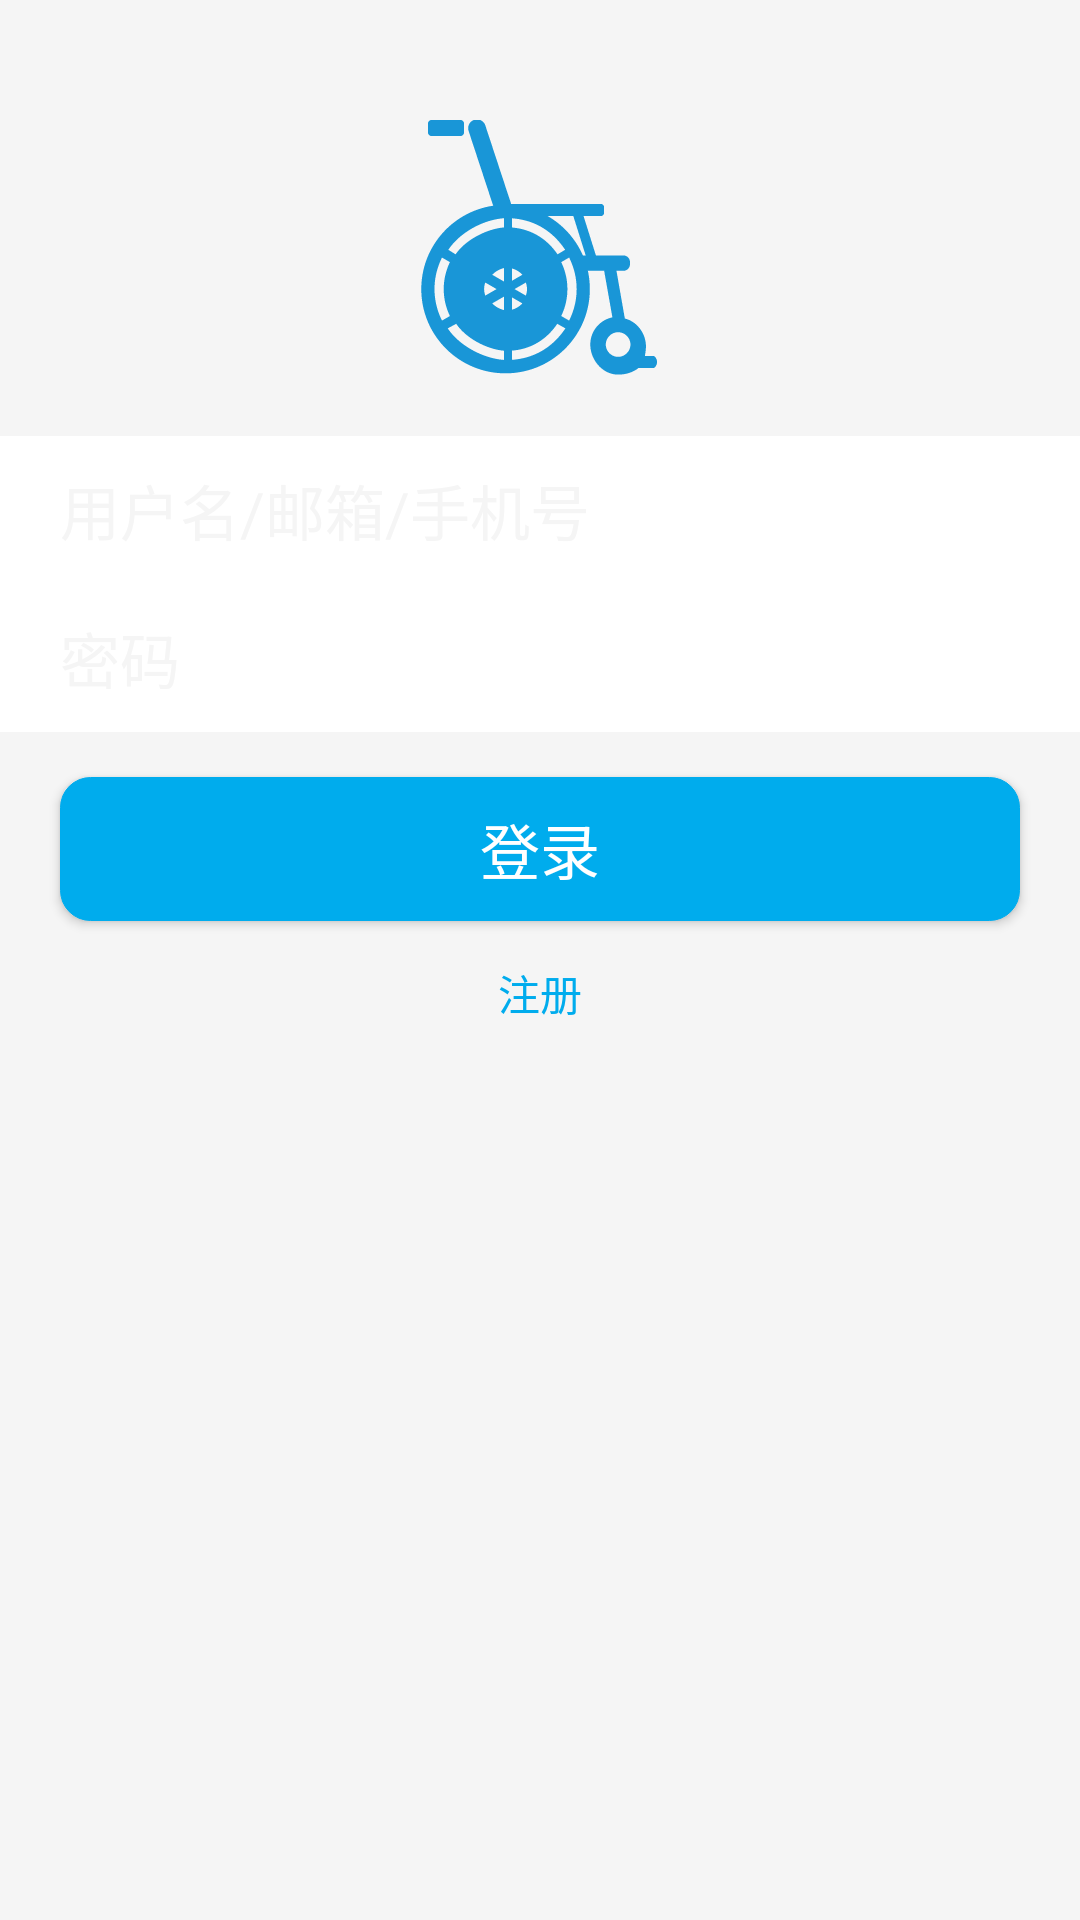

Where to tap for icons on this 1080*1920 app screen, as (x,y):
wheelchair: (539,247)
